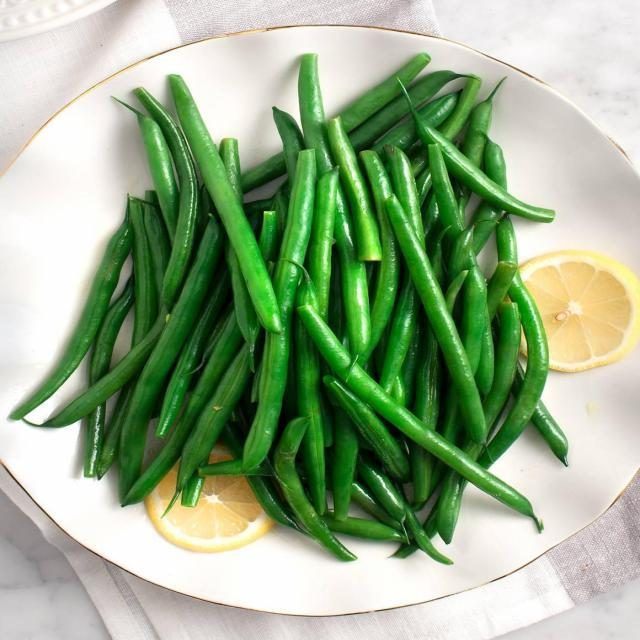Beans: (0, 36, 577, 570)
